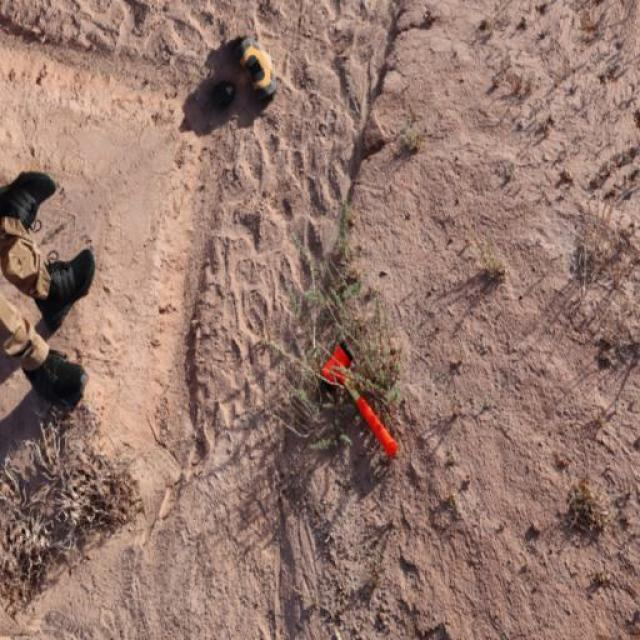mallet: (319, 338, 399, 458)
